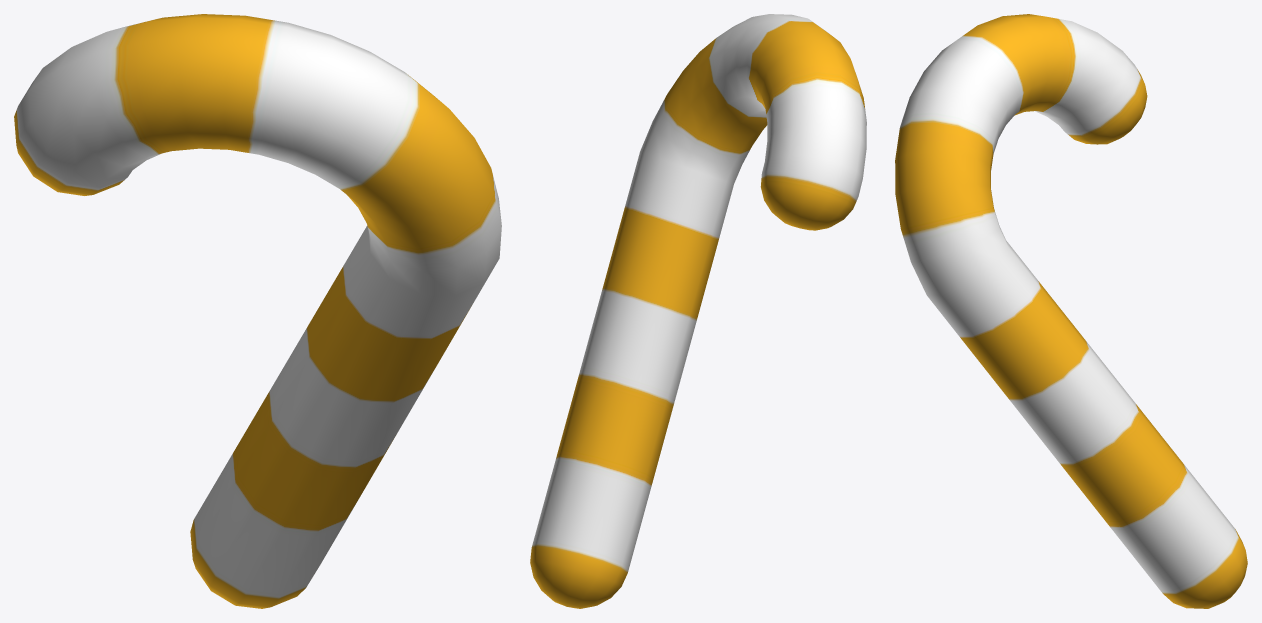
File: 拐杖黄.fbx
3 views of the same model, side by side, from view 1: azimuth 30°, elevation 25°; view 2: azimuth 150°, elevation 25°; view 3: azimuth 270°, elevation 25° (orthographic). The views are drawn at different scales.
Visible parts, largest first — view 1: 圆环.001; view 2: 圆环.001; view 3: 圆环.001.
Boxes of the visible parts, x1,y1,x2,y2 form: 圆环.001: (14,14,501,608); 圆环.001: (530,14,866,608); 圆环.001: (895,14,1247,608).
Size of the model in its own units: 38.08 by 69.79 by 42.74.
1 material, 1 textured.
